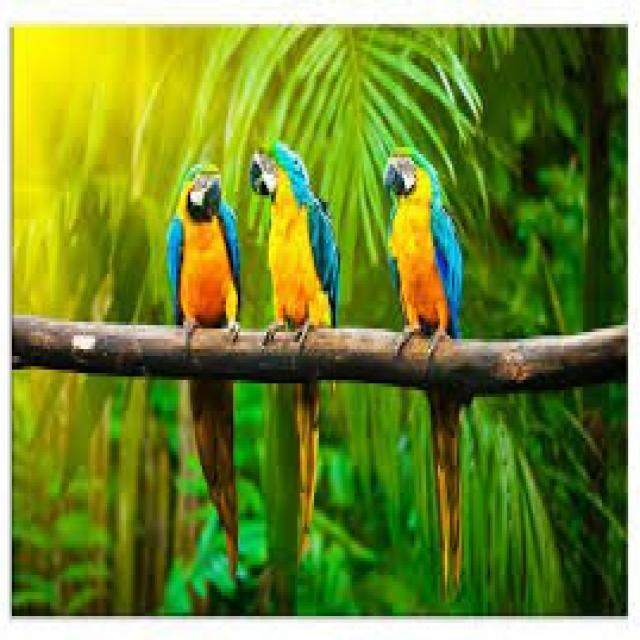parrot: (252, 140, 340, 325), (385, 147, 464, 335), (171, 171, 240, 322)
